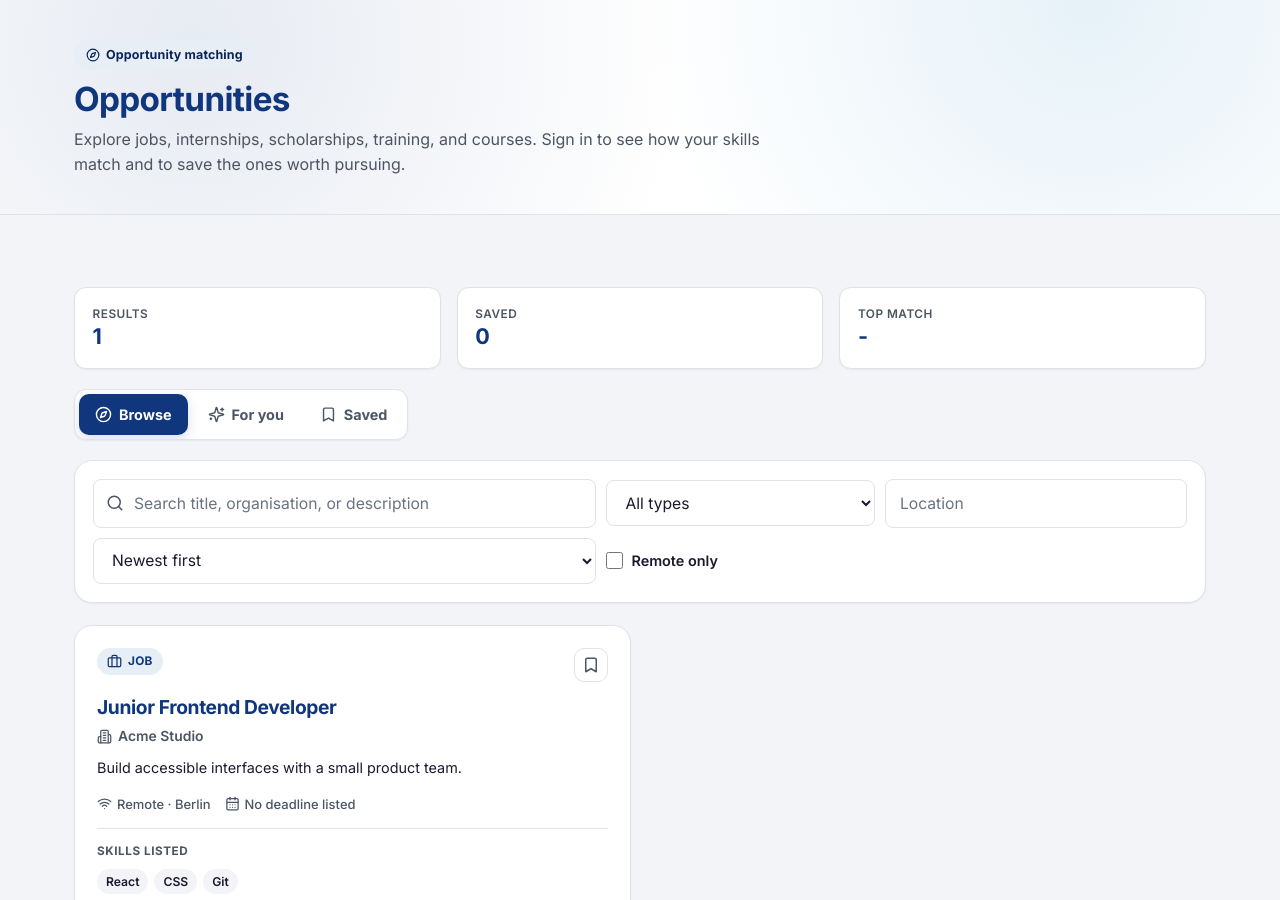
Test: shows skill-based matches for a logged-in user
expect the heading "Junior Frontend Developer" is shown: met, box [97,695,336,719]
Click the tab "For you": point(246, 414) [192,394,300,435]
(page scrolled)
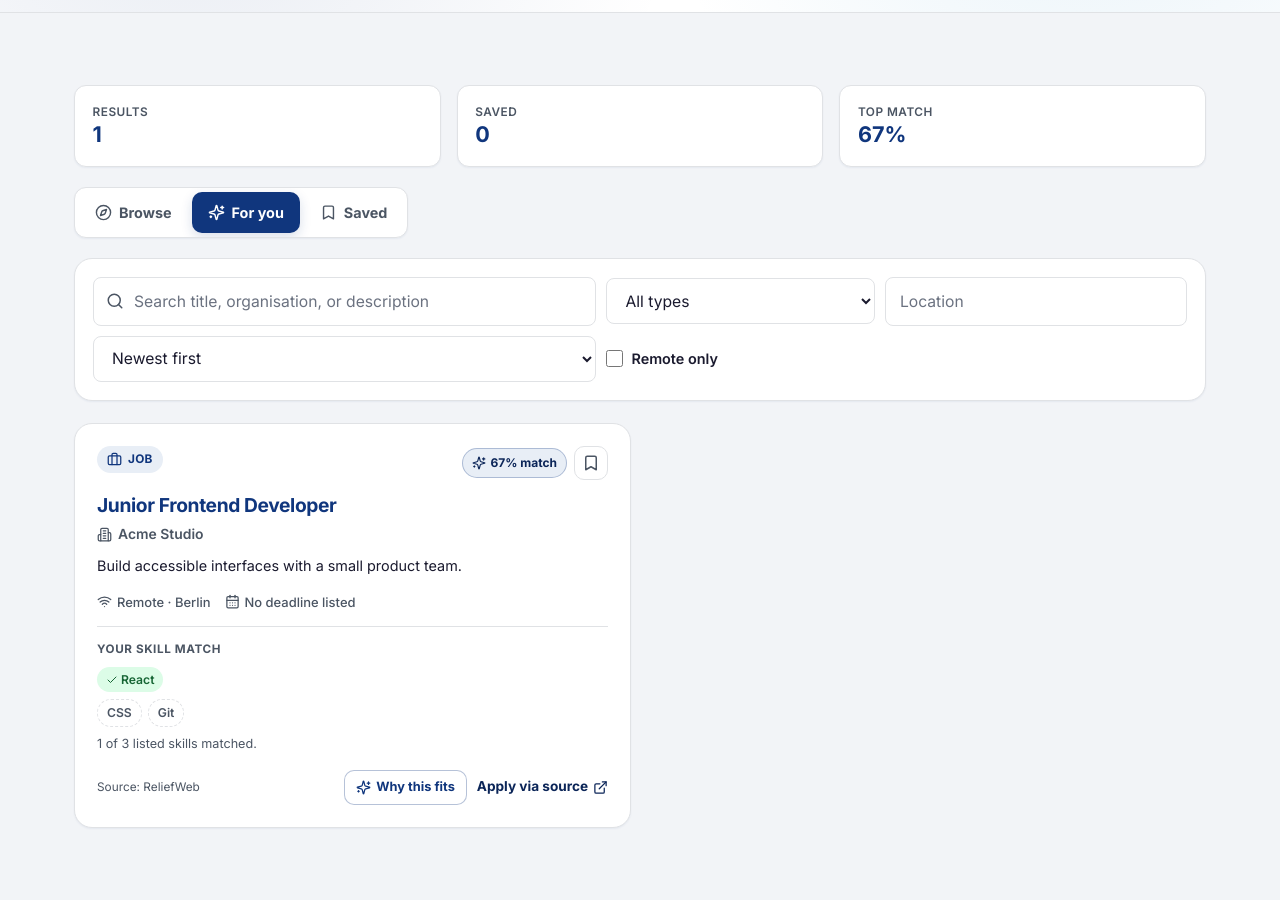
expect the text "React" is shown: met, box [97,667,163,692]
expect the text "67% match" is shown: met, box [462,448,567,478]
